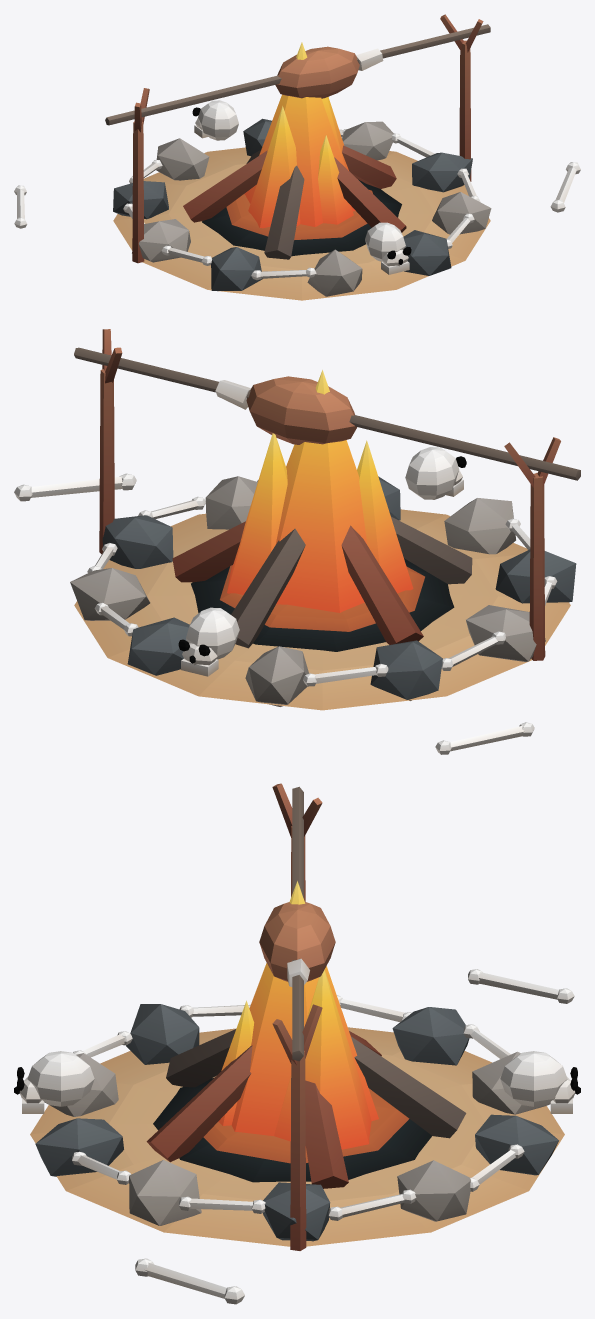
File: dustpaw_fire.glb
3 views of the same model, one above another, from view 1: azimuth 30°, elevation 25°; view 2: azimuth 150°, elevation 25°; view 3: azimuth 270°, elevation 25° (orthographic). The views are drawn at different scales.
Parts seen in each view (by area): view 1: dustpaw_fire; view 2: dustpaw_fire; view 3: dustpaw_fire.
Part boxes in pixels (x1=…): dustpaw_fire: x1=14, y1=14, x2=580, y2=300; dustpaw_fire: x1=14, y1=329, x2=580, y2=754; dustpaw_fire: x1=14, y1=783, x2=580, y2=1304.
Size of the model in its own units: 3.08 by 1.16 by 2.23.
3 materials, 3 textured.
